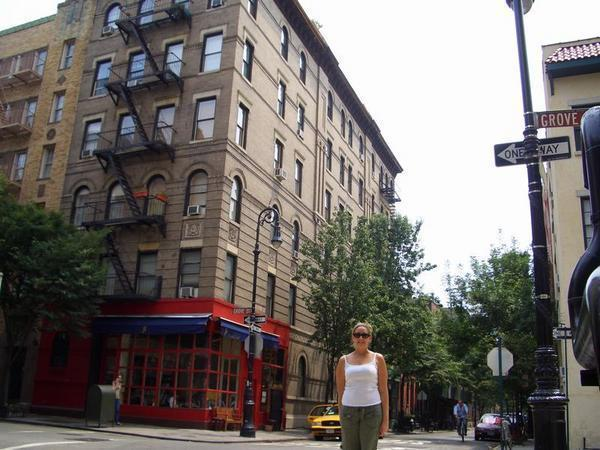affected: (96, 0, 390, 448)
